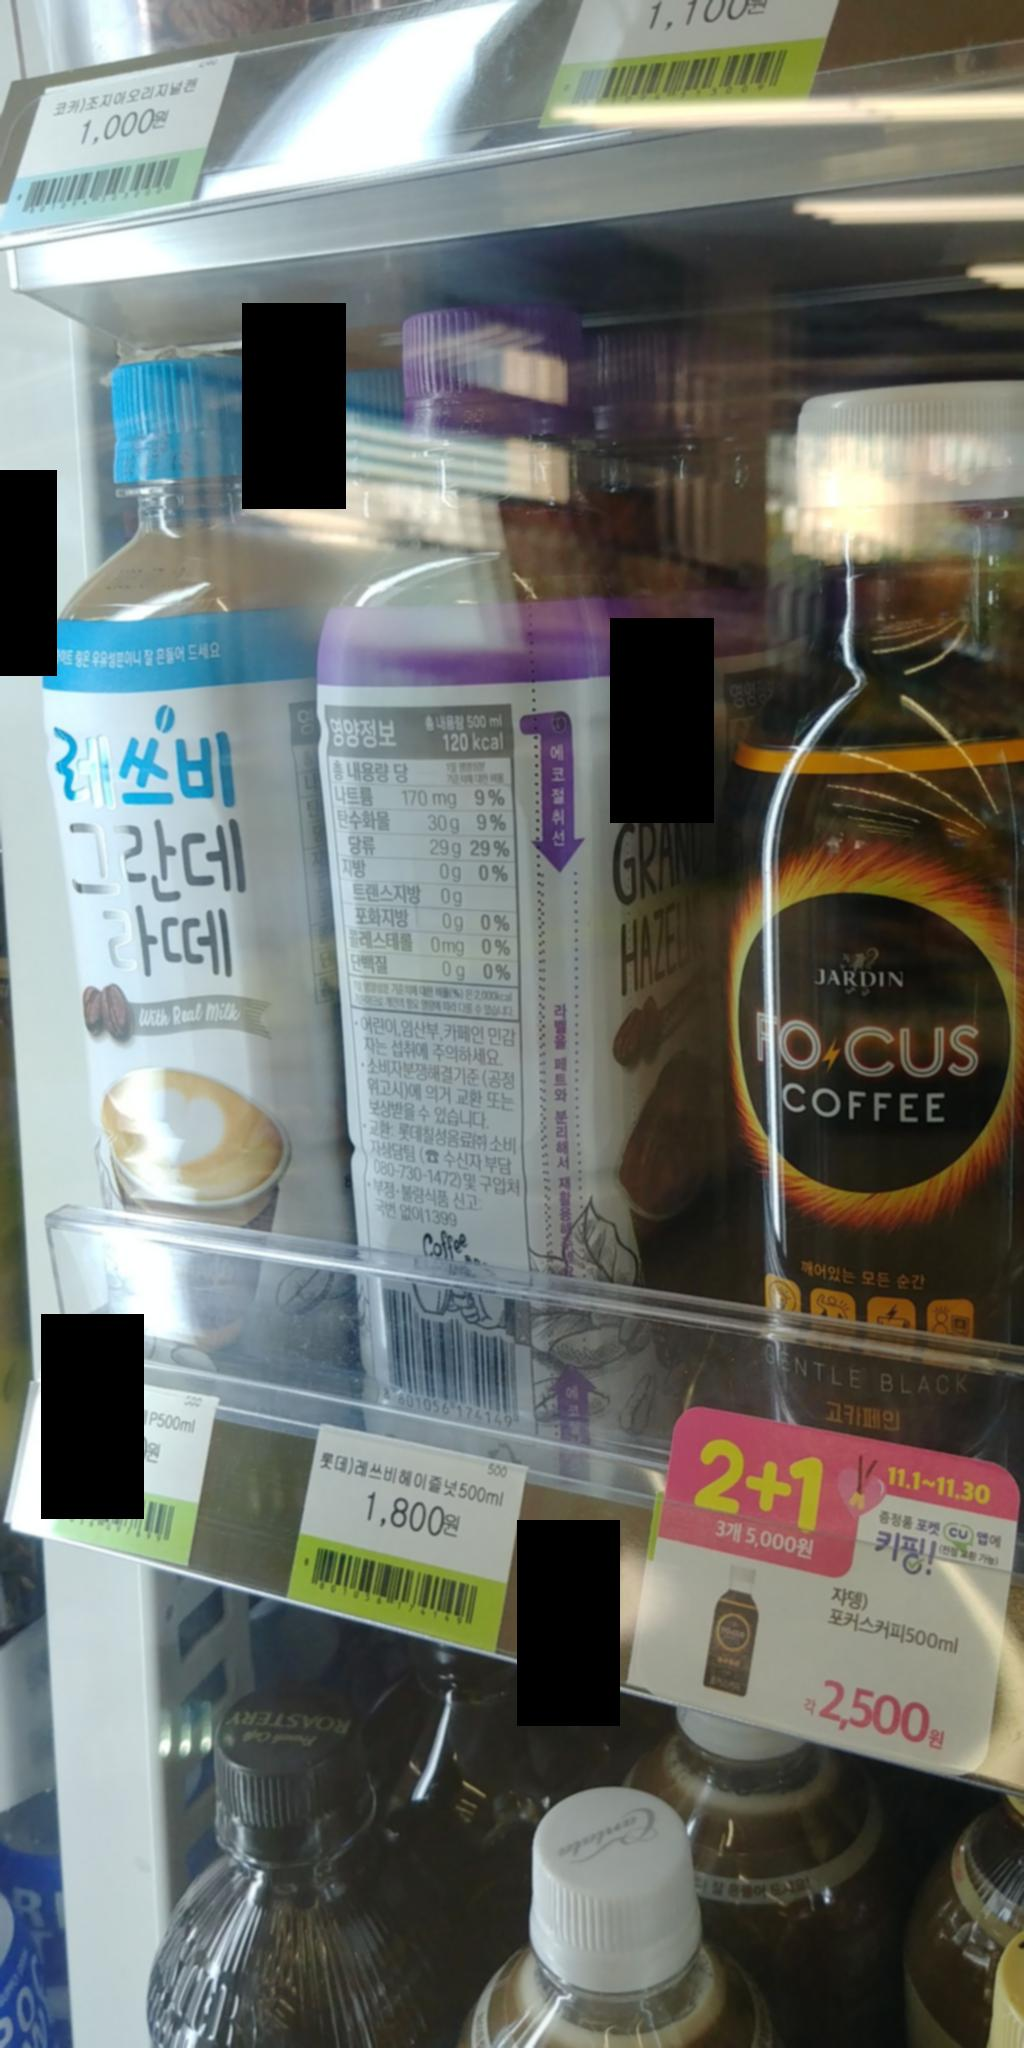letsbe_grande_hazelnut: (317, 324, 697, 1450)
